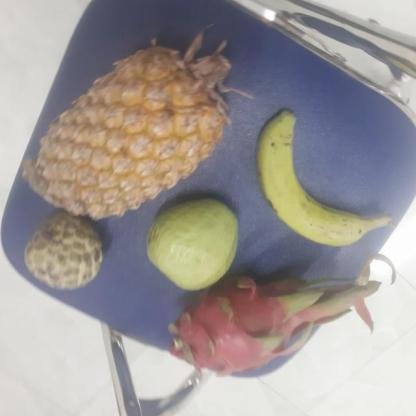annona: (26, 210, 110, 290)
banana: (256, 115, 378, 244)
guava: (145, 200, 244, 288)
pineapple: (33, 50, 235, 216)
pitaya: (173, 273, 301, 379)
